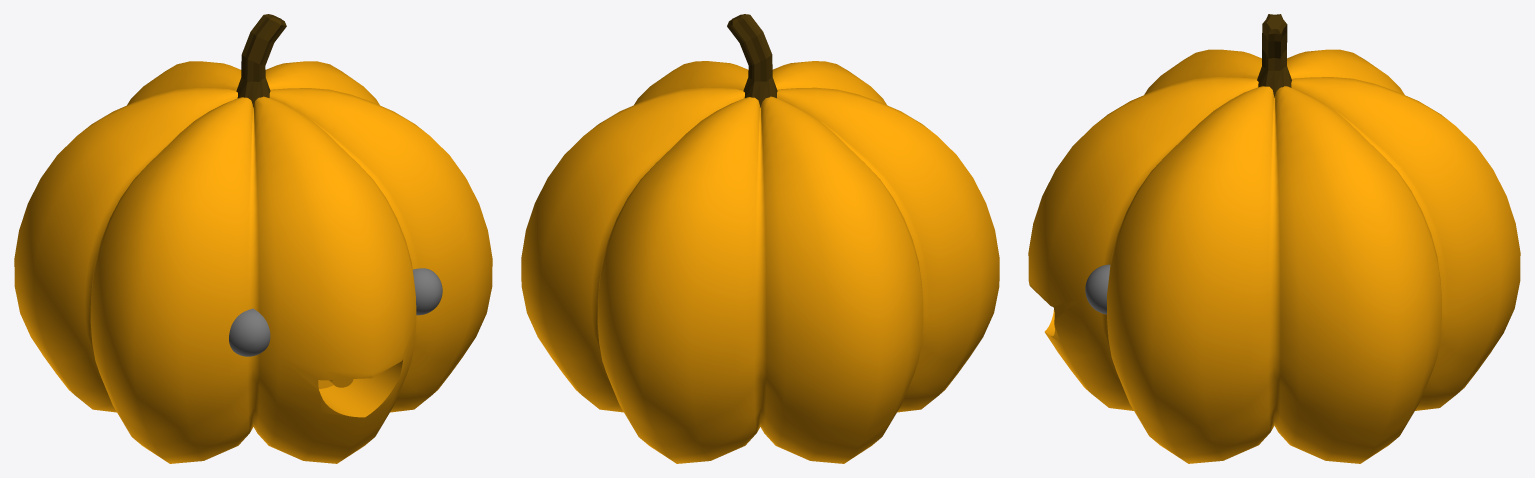
File: pumpkin3D.fbx
3 views of the same model, side by side, from view 1: azimuth 30°, elevation 25°; view 2: azimuth 150°, elevation 25°; view 3: azimuth 270°, elevation 25° (orthographic). The views are drawn at different scales.
Visible parts, largest first — view 1: pumpkin, stem, rEye, lEye; view 2: pumpkin, stem; view 3: pumpkin, stem, lEye.
Part boxes in pixels (left/top/right/bottom): pumpkin: left=14, top=61, right=492, bottom=463; stem: left=236, top=14, right=286, bottom=107; rEye: left=229, top=308, right=270, bottom=356; lEye: left=413, top=268, right=442, bottom=315; pumpkin: left=521, top=61, right=999, bottom=463; stem: left=727, top=14, right=777, bottom=107; pumpkin: left=1028, top=49, right=1520, bottom=463; stem: left=1257, top=14, right=1291, bottom=97; lEye: left=1085, top=264, right=1110, bottom=314.
Size of the model in its own units: 1.74 by 1.74 by 1.95.
